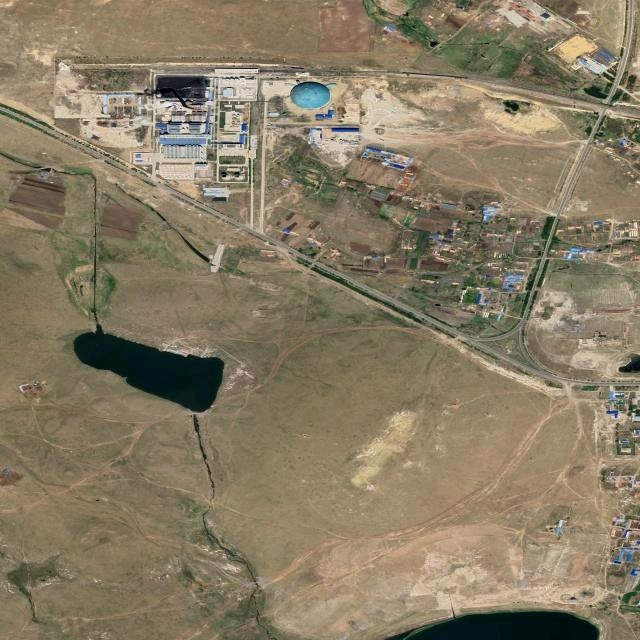coal_fired_power_plant: (150, 62, 257, 184)
